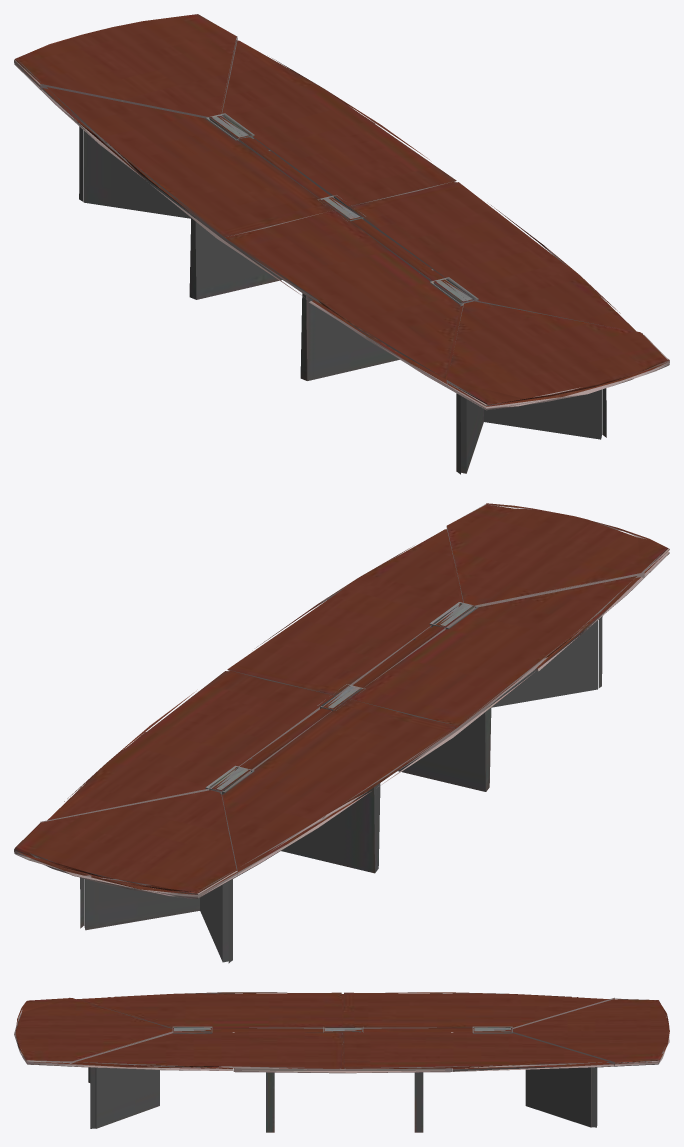
Rendered from BAILEYS-table-01.obj.
3 renders of one model, top to bottom at view 1: azimuth 30°, elevation 25°; view 2: azimuth 150°, elevation 25°; view 3: azimuth 270°, elevation 25°, orthographic. The views are drawn at different scales.
Bounding box in the file's own units: 1.81 × 0.809 × 6.44.
Materials: 1 (1 with a texture image).
